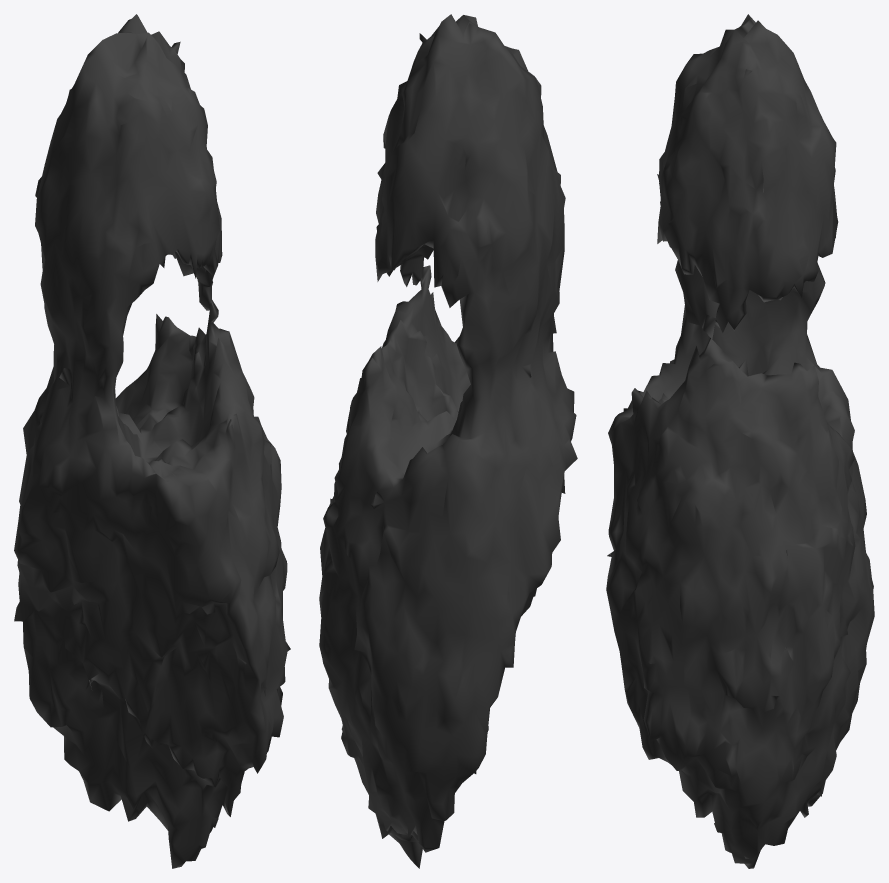
The model's file is shoot-0.glb.
3 views of the same model, side by side, from view 1: azimuth 30°, elevation 25°; view 2: azimuth 150°, elevation 25°; view 3: azimuth 270°, elevation 25° (orthographic). The views are drawn at different scales.
Parts seen in each view (by area): view 1: geometry_0; view 2: geometry_0; view 3: geometry_0.
Boxes of the visible parts, box(x1,y1,x2,y2) form: geometry_0: box(14, 14, 290, 868); geometry_0: box(319, 14, 577, 868); geometry_0: box(606, 14, 874, 868).
Bounding box in the file's own units: 0.2807 × 1 × 0.2924.
Materials: 1 (1 with a texture image).
